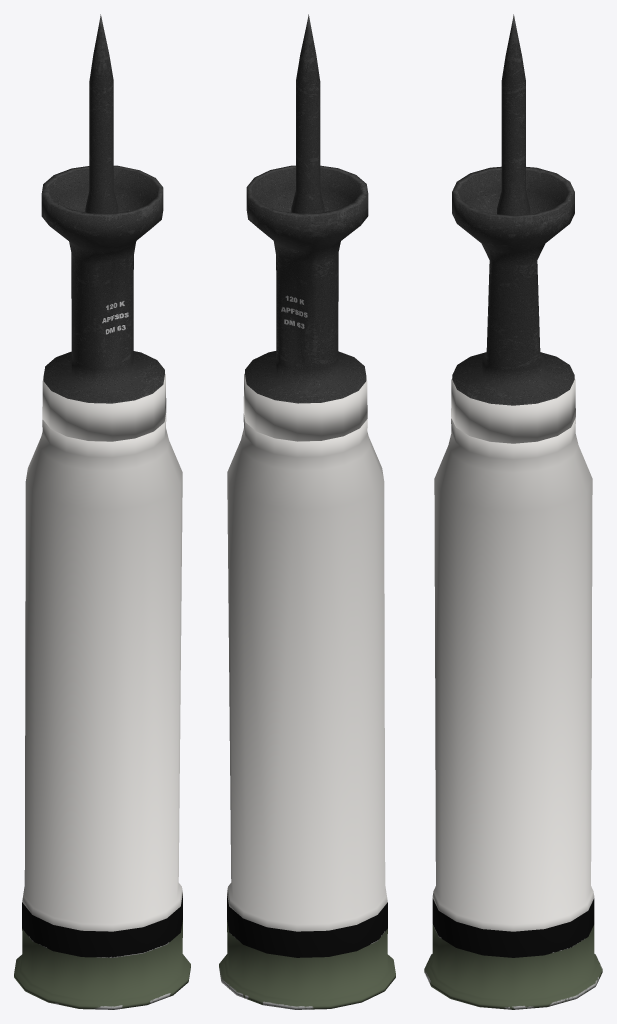
The picture shows the model from 3 angles, left to right: view 1: azimuth 30°, elevation 25°; view 2: azimuth 150°, elevation 25°; view 3: azimuth 270°, elevation 25°; orthographic projection.
Visible parts, largest first — view 1: DM53; view 2: DM53; view 3: DM53.
Boxes of the visible parts, x1=… form: DM53: x1=14, y1=14, x2=190, y2=1009; DM53: x1=219, y1=14, x2=395, y2=1009; DM53: x1=424, y1=14, x2=602, y2=1009.
Size of the model in its own units: 5.12 by 30.38 by 5.12.
4 materials, 4 textured.
